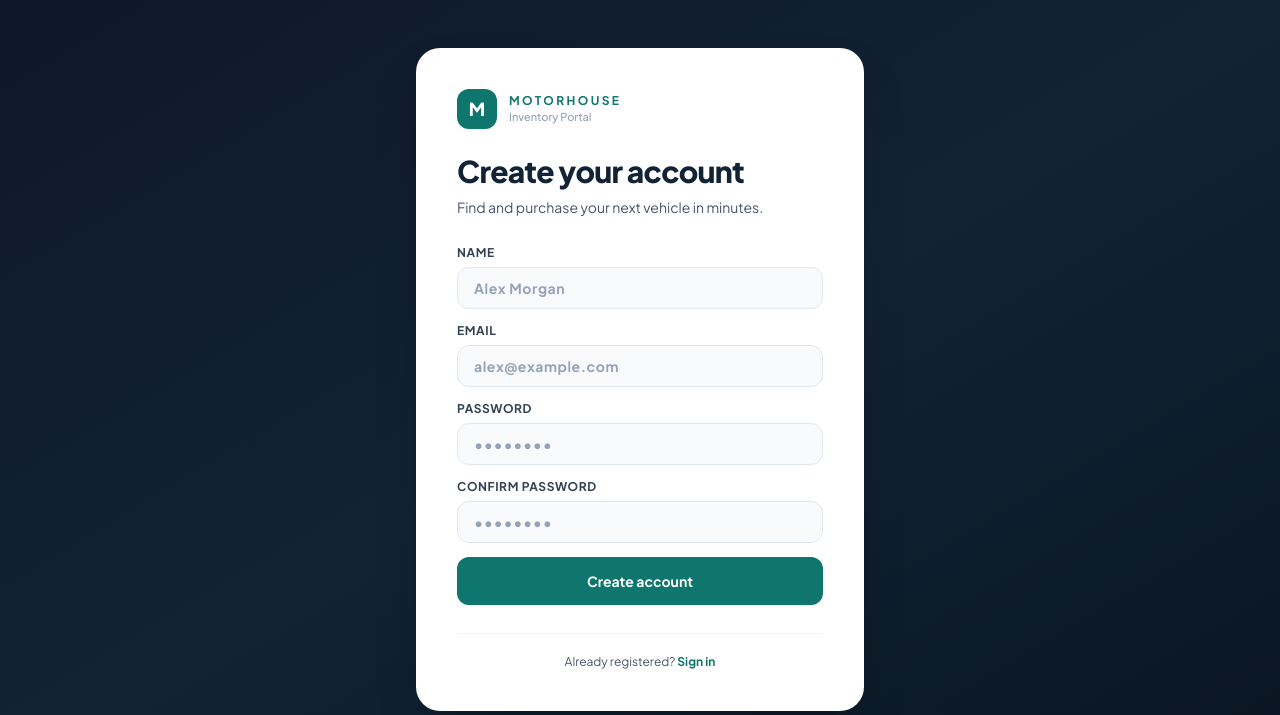
Test: shows a validation message when passwords do not match
Type "Ada" into the field labelled "Name" at (640, 288), box [457,267,823,309]
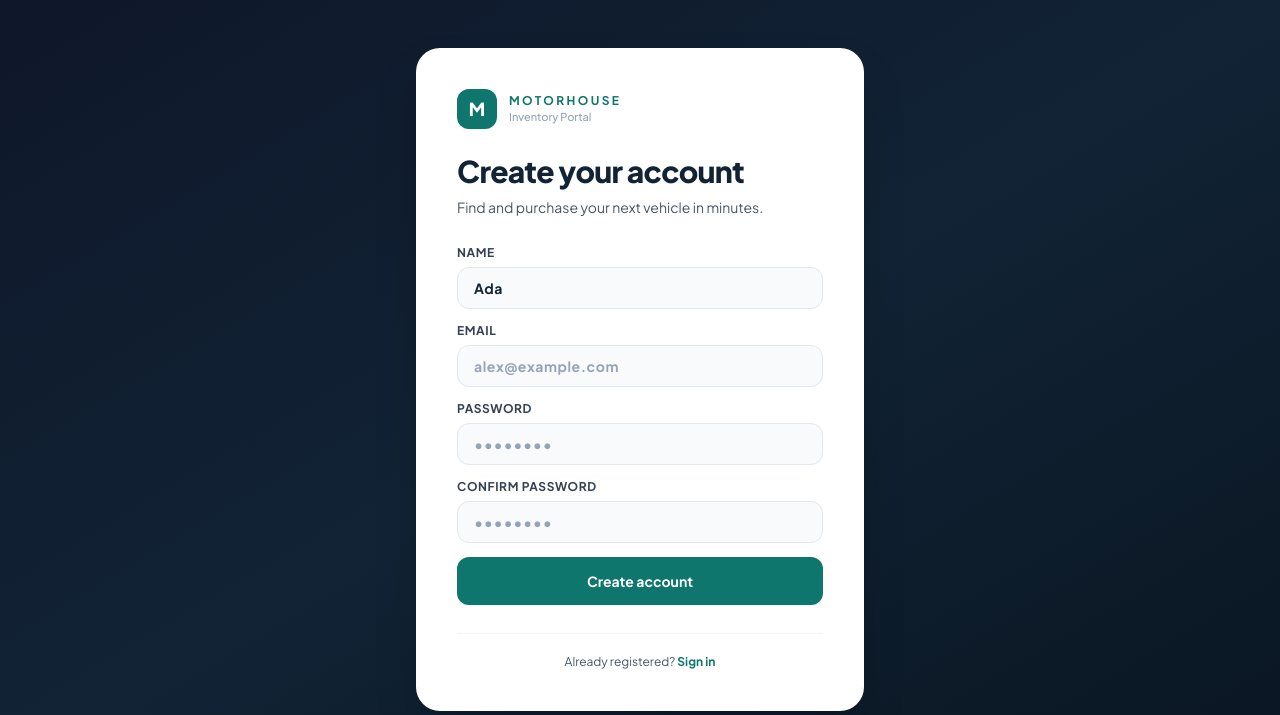
Type "ada@example.com" into the field labelled "Email" at (640, 366), box [457,345,823,387]
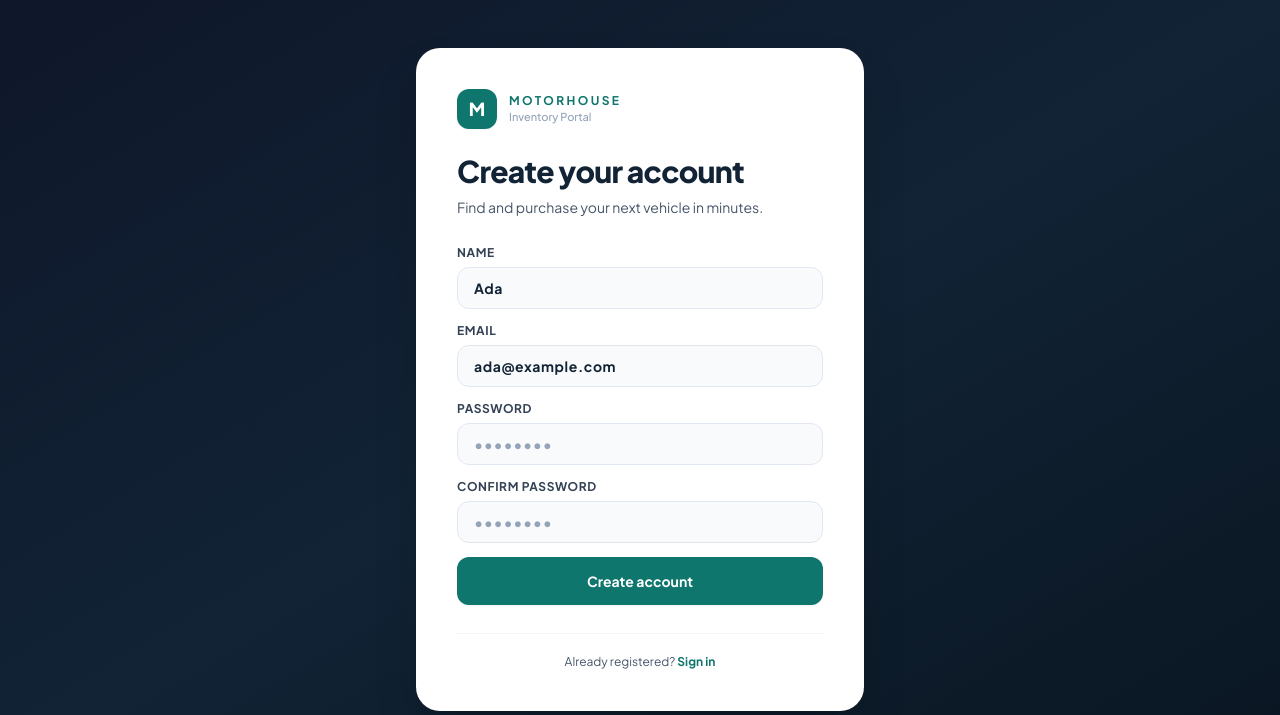
Type "secure123" into the password field labelled "Password" at (640, 444), box [457,423,823,465]
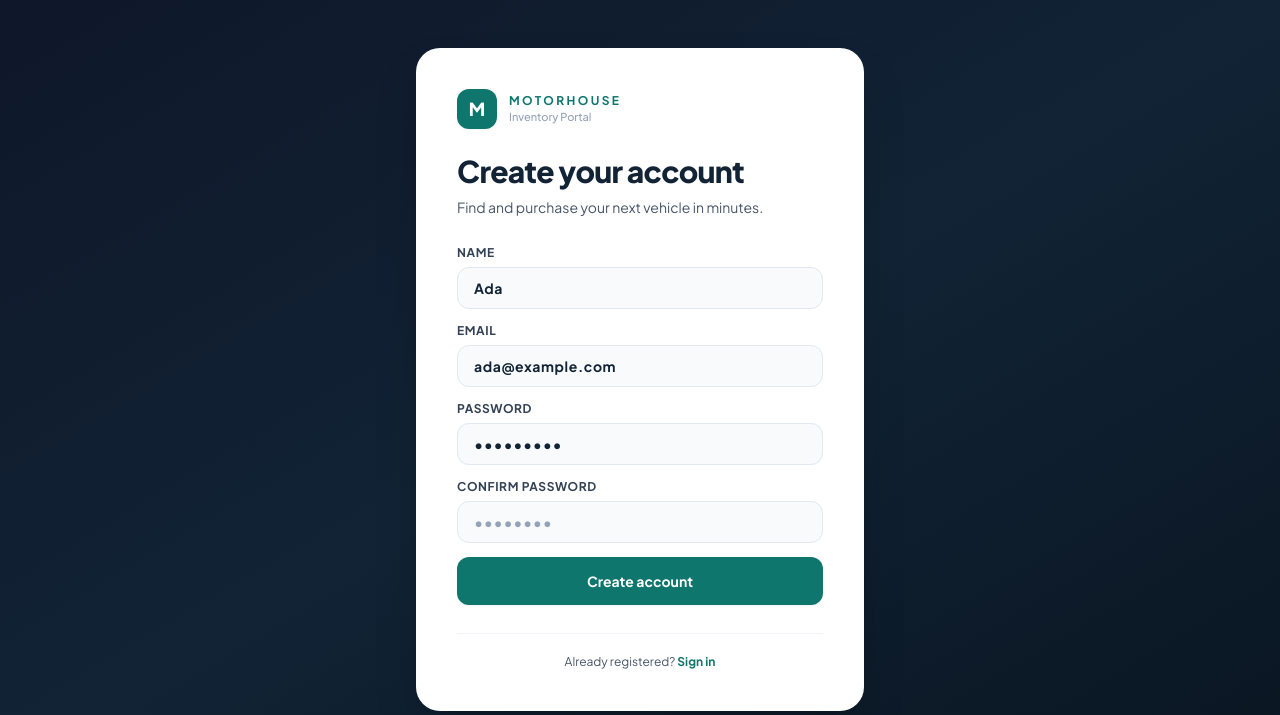
Type "different123" into the password field labelled "Confirm password" at (640, 522), box [457,501,823,543]
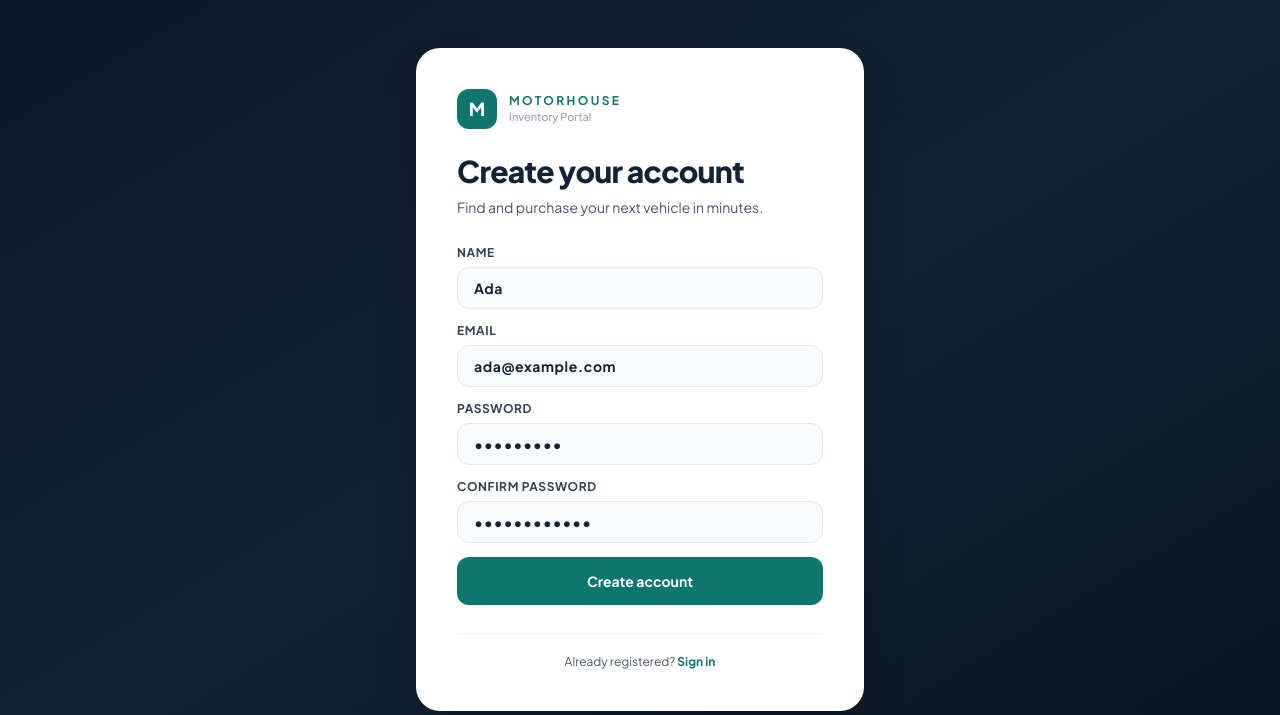
Click the button "Create account" at (640, 581), box [457,557,823,605]
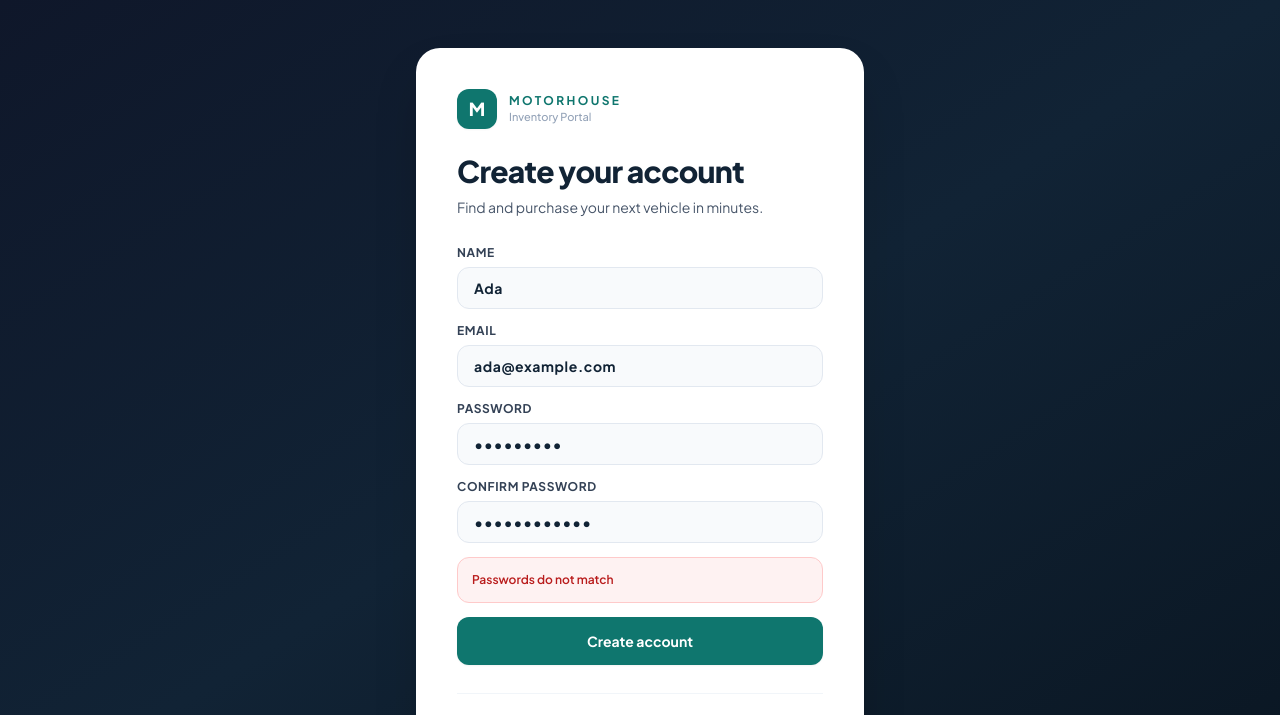
Expected: the message reads "Passwords do not match", [472,572,614,587]
